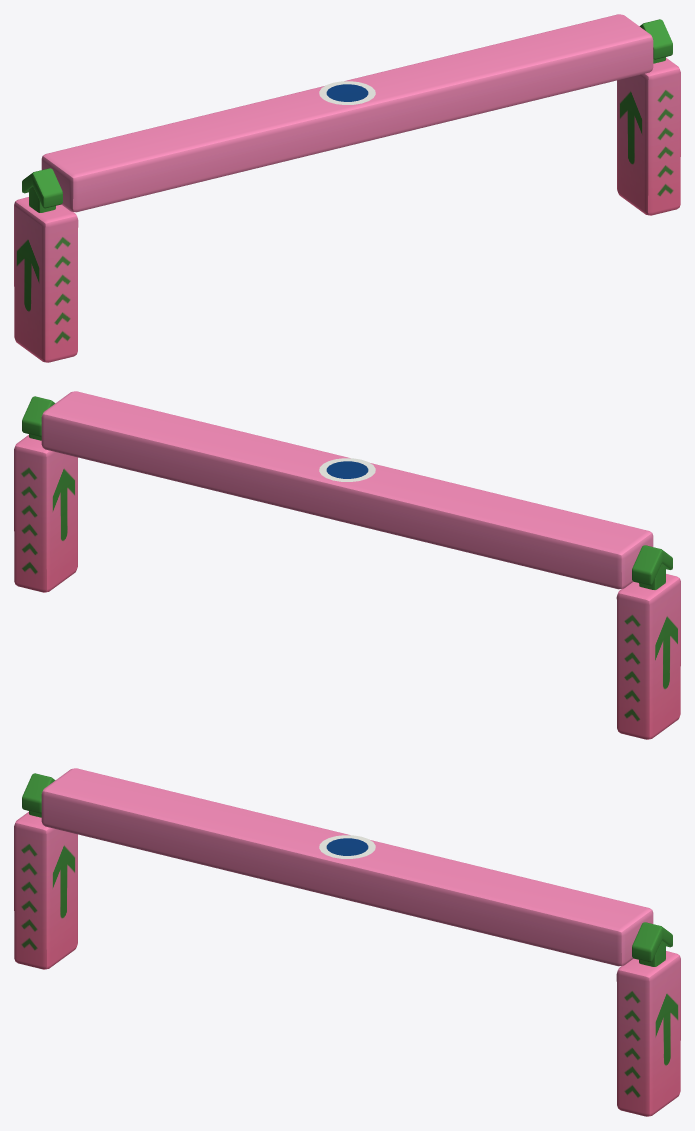
3 views of the same model, one above another, from view 1: azimuth 30°, elevation 25°; view 2: azimuth 150°, elevation 25°; view 3: azimuth 330°, elevation 25° (orthographic).
Visible parts, largest first — view 1: shape3_6, top_cycle6; view 2: shape3_6, top_cycle6; view 3: shape3_6, top_cycle6.
Part boxes in pixels (x1,y1,x2,y2): shape3_6: (14,14,680,362); top_cycle6: (319,81,375,104); shape3_6: (14,391,680,739); top_cycle6: (319,458,375,481); shape3_6: (14,768,680,1116); top_cycle6: (319,835,375,858).
Bounding box in the file's own units: 55.02 × 15.08 × 5.
